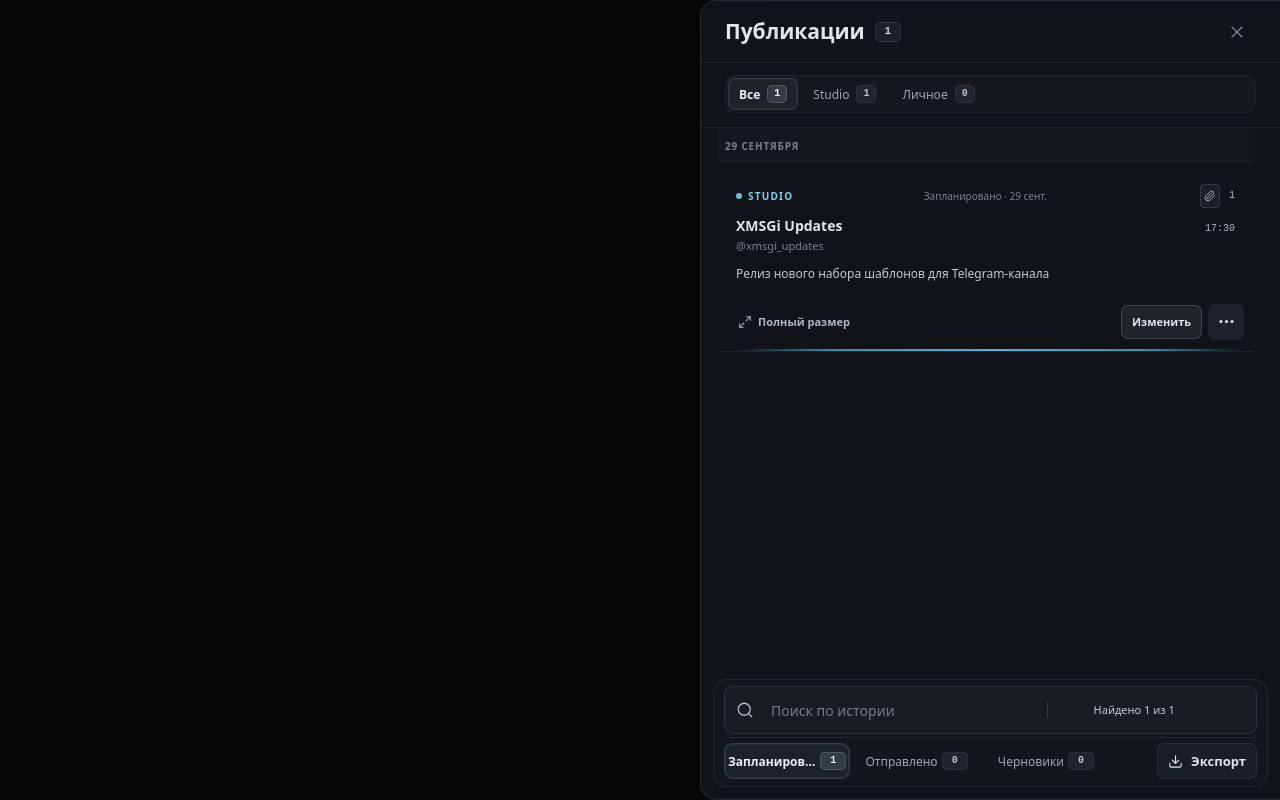
Test: HistoryDrawer search › keeps drafts in a dedicated section instead of mixing them into the queue UI
What coordinates should you click on to do the following:
click the tab "Черновики 0"
I would click on:
 (1046, 761)
Its box is [983,743,1109,779].
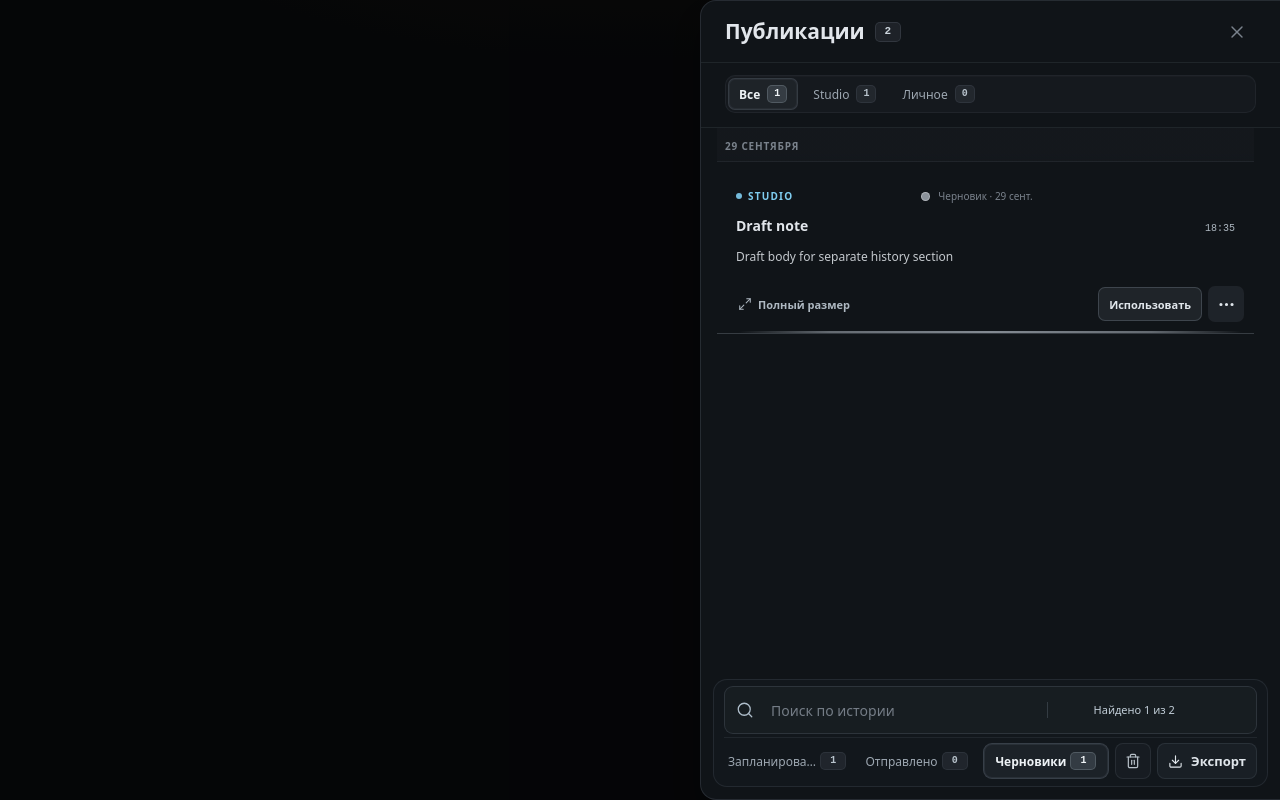
Now the text "Draft note" is shown, box [736,217,808,236]
Now the tab "Черновики 1" is shown, box [983,743,1109,779]
